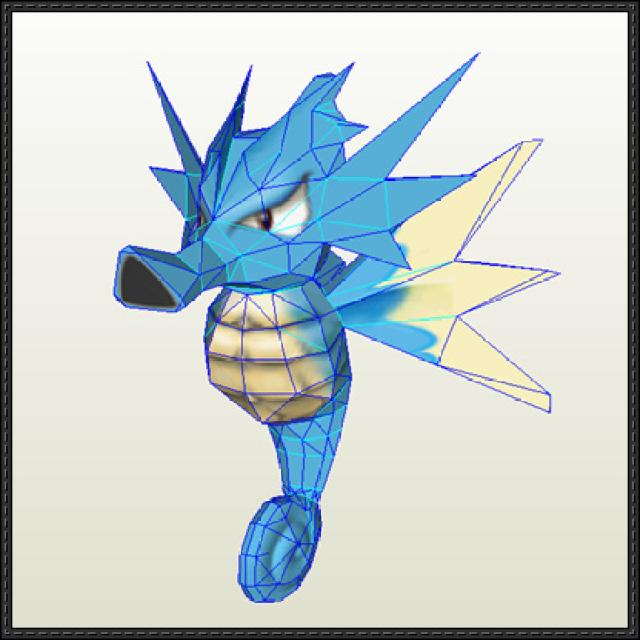Seadra: (116, 75, 487, 605)
